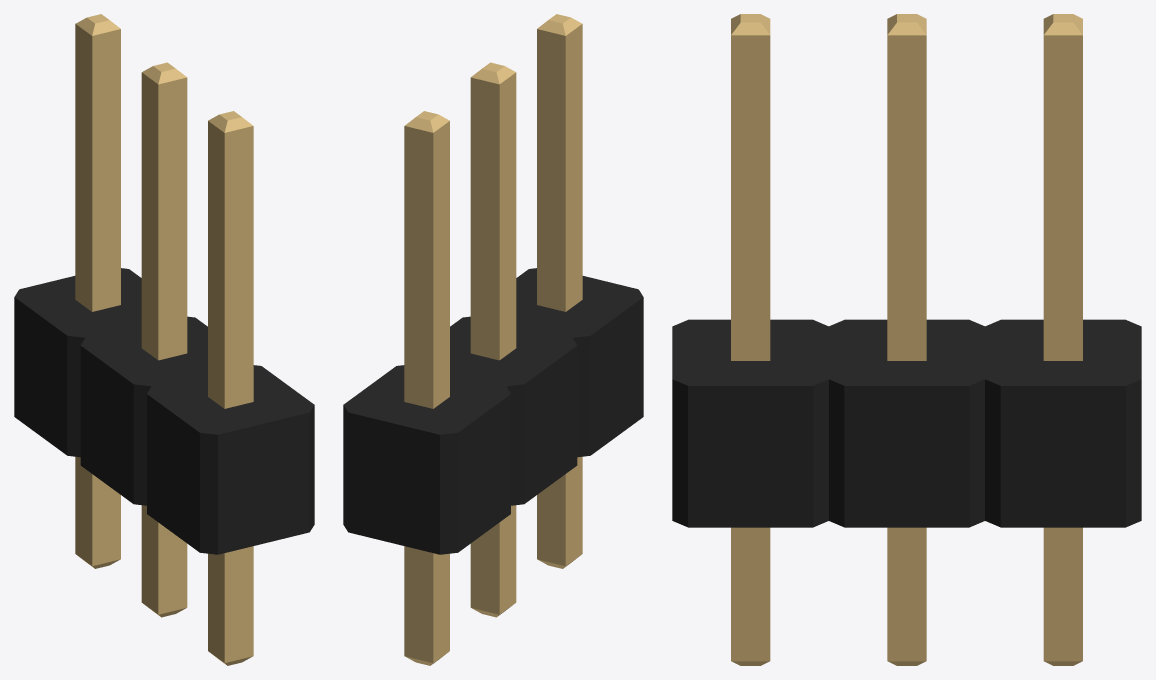
Rendered from Connector_PinHeader_2.54mm__PinHeader_1x03_P2.54mm_Vertical.glb.
3 views of the same model, side by side, from view 1: azimuth 30°, elevation 25°; view 2: azimuth 150°, elevation 25°; view 3: azimuth 270°, elevation 25° (orthographic). The views are drawn at different scales.
Parts seen in each view (by area): view 1: PinHeader_1x03_P254mm_Vertical; view 2: PinHeader_1x03_P254mm_Vertical; view 3: PinHeader_1x03_P254mm_Vertical.
Part boxes in pixels (left/top/right/bottom): PinHeader_1x03_P254mm_Vertical: left=14, top=14, right=314, bottom=665; PinHeader_1x03_P254mm_Vertical: left=343, top=14, right=643, bottom=665; PinHeader_1x03_P254mm_Vertical: left=672, top=14, right=1141, bottom=665.
Bounding box in the file's own units: 0.00254 × 0.0115 × 0.00762.
